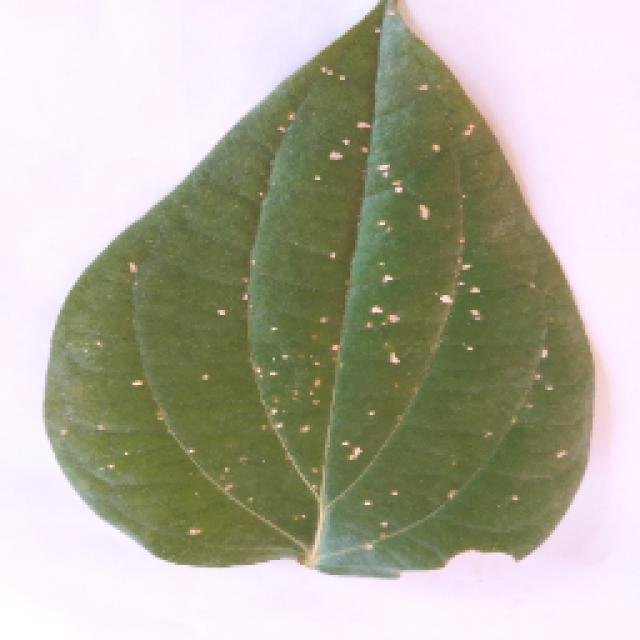pollu-disease: (40, 0, 605, 565)
